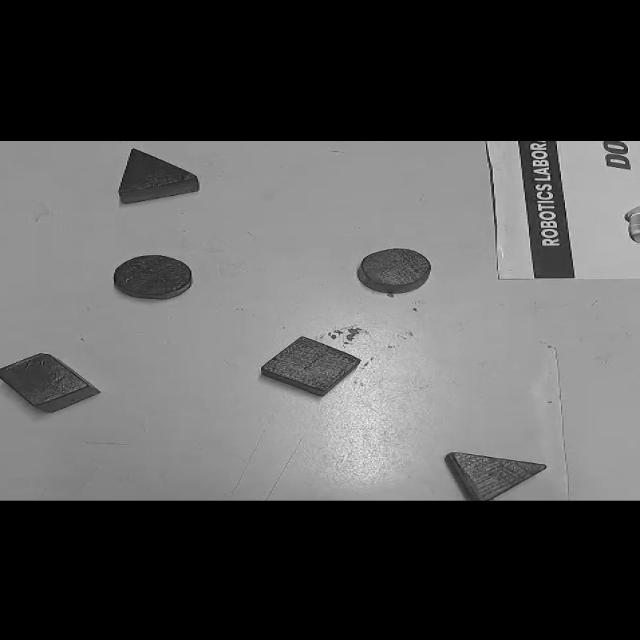bcircle: (112, 253, 193, 300)
bcube: (260, 335, 362, 397)
btriangle: (118, 149, 200, 204)
rcircle: (357, 248, 432, 294)
rcube: (0, 353, 101, 413)
rtriangle: (445, 451, 546, 500)
